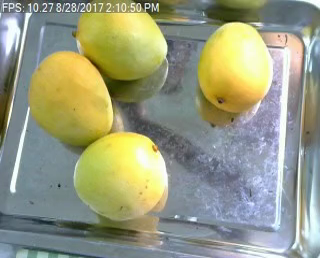Mango: (73, 132, 165, 223), (27, 50, 113, 144), (74, 0, 168, 79), (197, 21, 275, 112)
